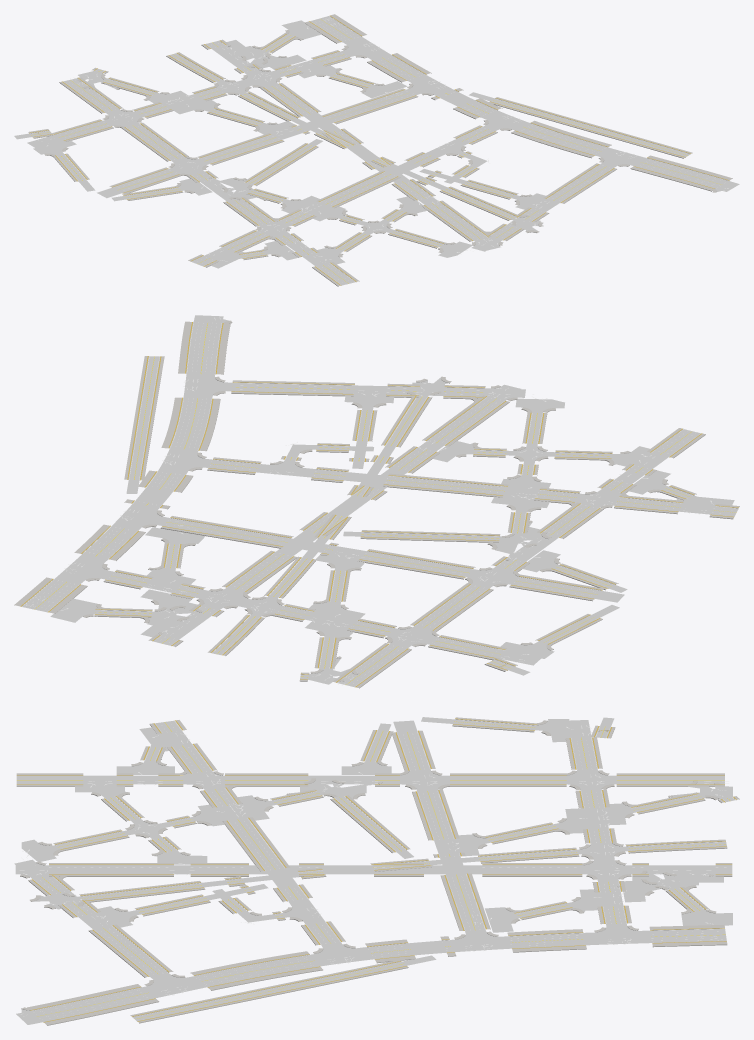
Rendered from roads_-1_-1.gltf.
3 renders of one model, top to bottom at view 1: azimuth 30°, elevation 25°; view 2: azimuth 150°, elevation 25°; view 3: azimuth 270°, elevation 25°, orthographic. The views are drawn at different scales.
Visible parts, largest first — view 1: roads_-1_-1_SH_wet_asphalt, roads_-1_-1_SH_sidewalk, roads_-1_-1_Road_Tactile_Strip, roads_-1_-1_SH_kerb, roads_-1_-1_SH_road_marking_yellow, roads_-1_-1_SH_road_marking_white; view 2: roads_-1_-1_SH_wet_asphalt, roads_-1_-1_SH_sidewalk, roads_-1_-1_Road_Tactile_Strip, roads_-1_-1_SH_kerb, roads_-1_-1_SH_road_marking_white, roads_-1_-1_SH_road_marking_yellow; view 3: roads_-1_-1_SH_wet_asphalt, roads_-1_-1_SH_sidewalk, roads_-1_-1_Road_Tactile_Strip, roads_-1_-1_SH_kerb, roads_-1_-1_SH_road_marking_white, roads_-1_-1_SH_road_marking_yellow.
Boxes of the visible parts, x1=… form: roads_-1_-1_SH_wet_asphalt: x1=14, y1=16, x2=739, y2=285; roads_-1_-1_SH_sidewalk: x1=28, y1=14, x2=732, y2=286; roads_-1_-1_Road_Tactile_Strip: x1=29, y1=15, x2=729, y2=285; roads_-1_-1_SH_kerb: x1=30, y1=16, x2=728, y2=285; roads_-1_-1_SH_road_marking_yellow: x1=31, y1=19, x2=720, y2=283; roads_-1_-1_SH_road_marking_white: x1=32, y1=16, x2=728, y2=285; roads_-1_-1_SH_wet_asphalt: x1=22, y1=315, x2=738, y2=686; roads_-1_-1_SH_sidewalk: x1=14, y1=321, x2=739, y2=688; roads_-1_-1_Road_Tactile_Strip: x1=20, y1=322, x2=738, y2=687; roads_-1_-1_SH_kerb: x1=21, y1=320, x2=738, y2=686; roads_-1_-1_SH_road_marking_white: x1=22, y1=317, x2=738, y2=685; roads_-1_-1_SH_road_marking_yellow: x1=34, y1=323, x2=736, y2=684; roads_-1_-1_SH_wet_asphalt: x1=14, y1=717, x2=735, y2=1024; roads_-1_-1_SH_sidewalk: x1=16, y1=717, x2=739, y2=1025; roads_-1_-1_Road_Tactile_Strip: x1=17, y1=718, x2=736, y2=1022; roads_-1_-1_SH_kerb: x1=17, y1=719, x2=735, y2=1021; roads_-1_-1_SH_road_marking_white: x1=17, y1=719, x2=734, y2=1016; roads_-1_-1_SH_road_marking_yellow: x1=17, y1=721, x2=729, y2=1018.
Size of what is drawn, in the model's own units: 526 by 0.506 by 523.
